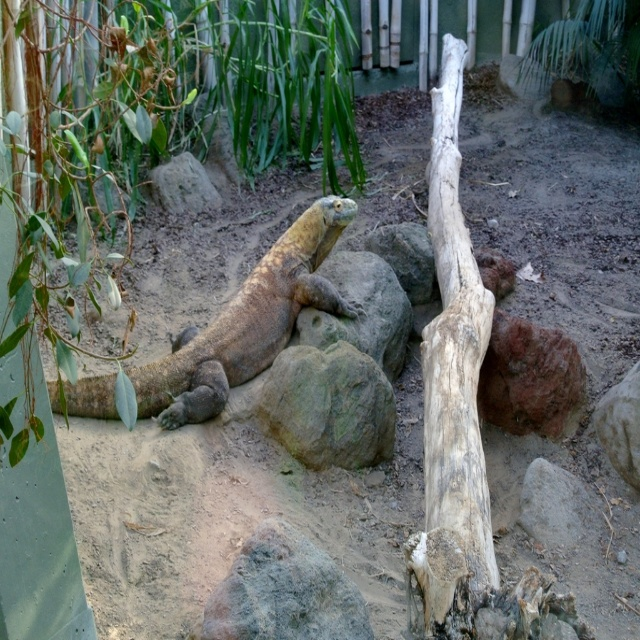Lizard: (83, 178, 378, 462)
